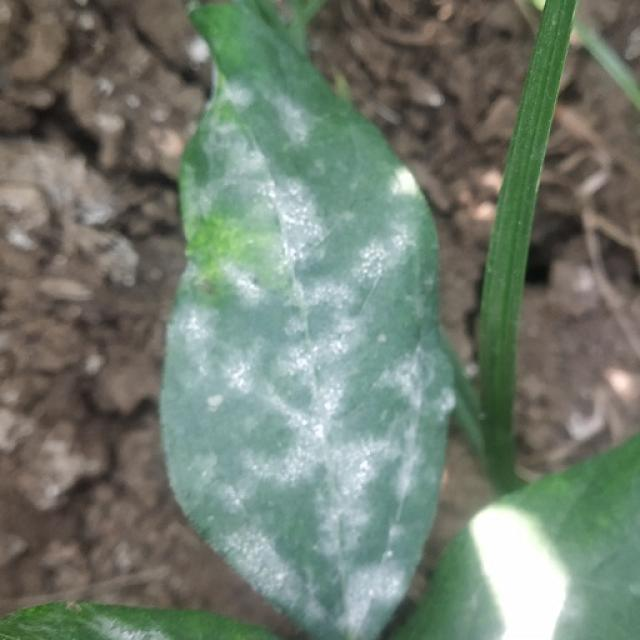Blackgram: (160, 0, 454, 639)
Powdery_Mildew: (289, 412, 406, 563), (210, 502, 300, 603), (269, 320, 346, 420), (266, 181, 329, 276), (342, 215, 409, 301), (255, 86, 327, 156), (393, 167, 419, 196), (435, 384, 456, 416), (596, 512, 615, 529), (207, 393, 223, 408), (379, 406, 391, 424), (247, 274, 261, 288), (206, 512, 216, 526), (377, 332, 388, 344), (477, 410, 487, 422), (633, 581, 640, 598), (517, 218, 523, 227), (487, 265, 493, 273)
